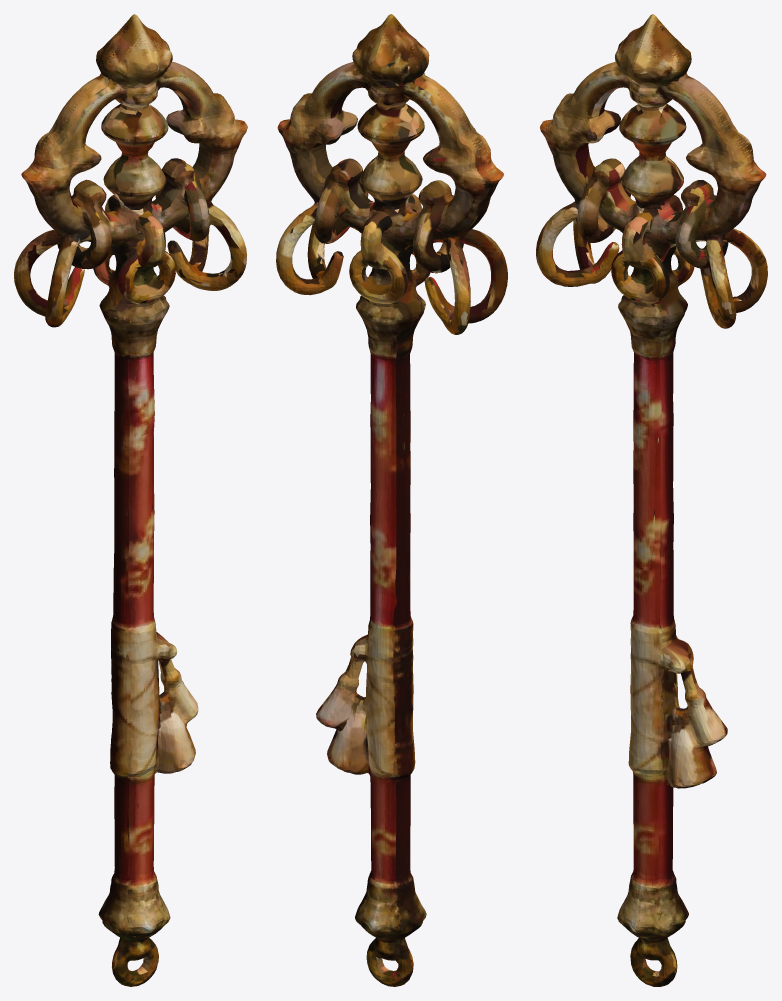
The model's file is shakujo_source.glb.
3 views of the same model, side by side, from view 1: azimuth 30°, elevation 25°; view 2: azimuth 150°, elevation 25°; view 3: azimuth 330°, elevation 25° (orthographic).
Visible parts, largest first — view 1: temp_mesh.ply; view 2: temp_mesh.ply; view 3: temp_mesh.ply.
Part boxes in pixels (x1,y1,x2,y2): temp_mesh.ply: (14,14,247,986); temp_mesh.ply: (276,14,507,986); temp_mesh.ply: (536,14,767,986).
Bounding box in the file's own units: 0.4726 × 1.97 × 0.187.
1 material, 1 textured.
